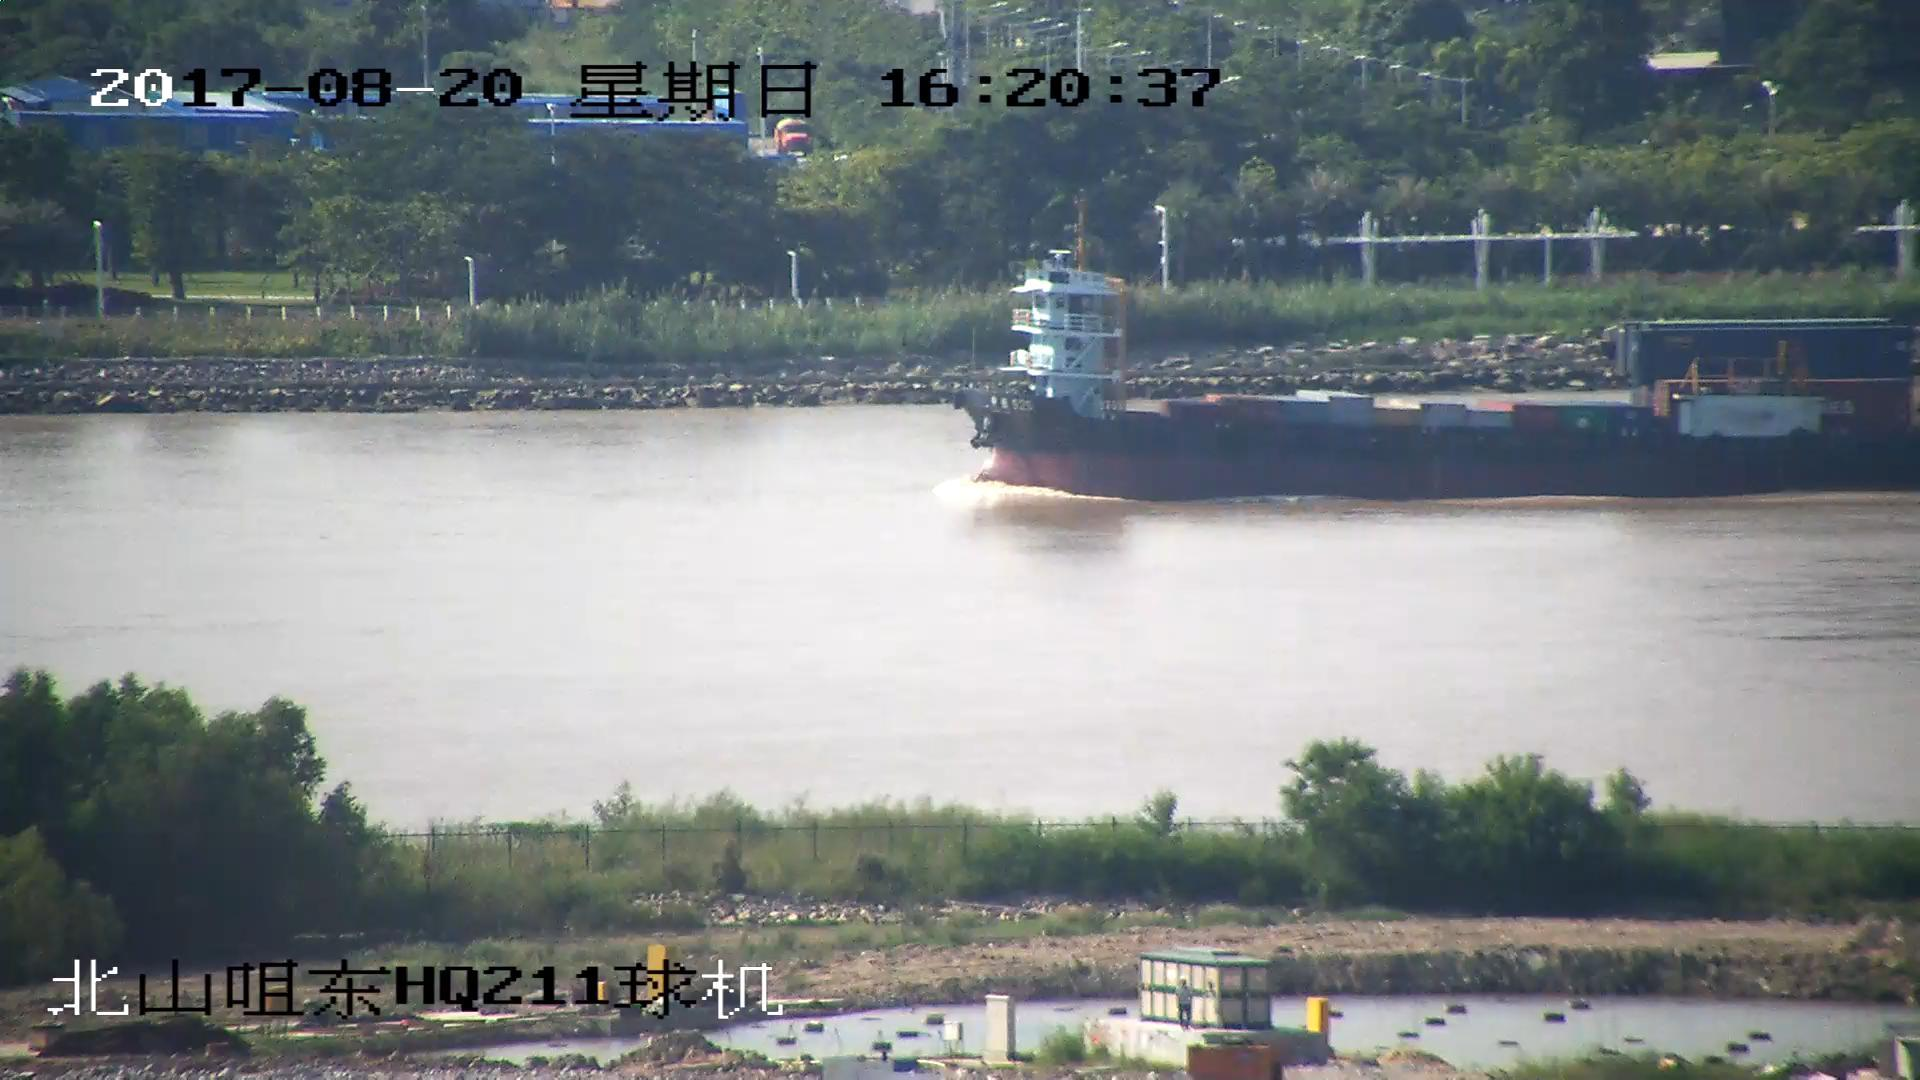Ship: (960, 251, 1920, 504)
